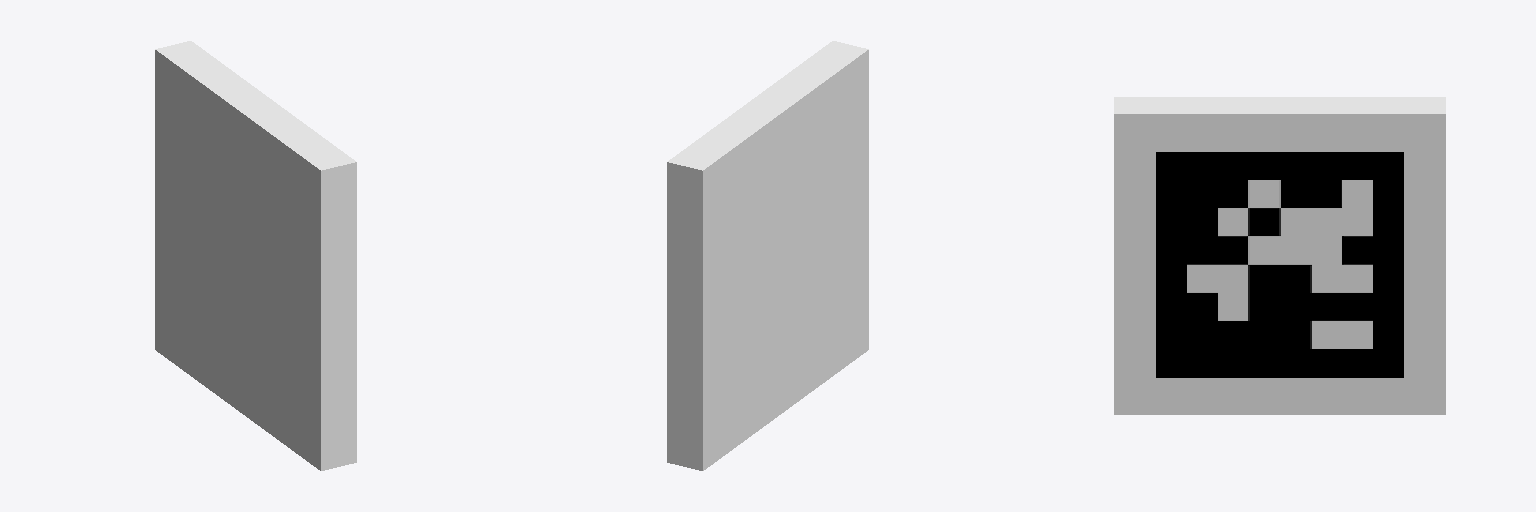
3 views of the same model, side by side, from view 1: azimuth 30°, elevation 25°; view 2: azimuth 150°, elevation 25°; view 3: azimuth 270°, elevation 25° (orthographic).
Parts seen in each view (by area): view 1: group_0; view 2: group_0; view 3: image_0, group_0.
Boxes of the visible parts, box(x1,y1,x2,y2) form: group_0: box(155, 41, 356, 470); group_0: box(667, 41, 868, 470); image_0: box(1156, 152, 1403, 377); group_0: box(1114, 97, 1445, 414).
Bounding box in the file's own units: 0.01 × 0.08 × 0.08.
2 materials, 1 textured.